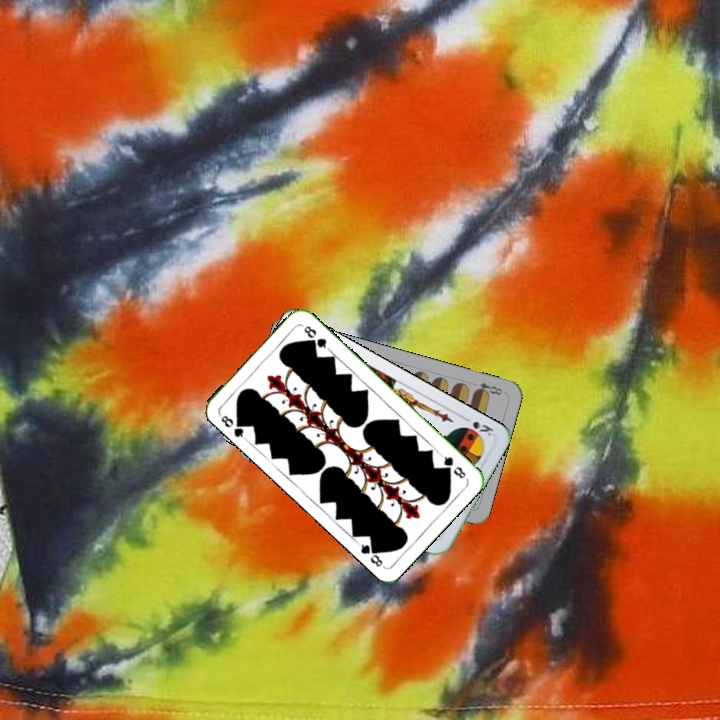E8: (471, 378, 507, 398)
G8: (215, 411, 248, 442), (436, 450, 468, 481)
SK: (459, 412, 496, 439)
